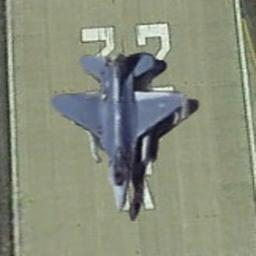Airplane: (50, 22, 199, 221)
